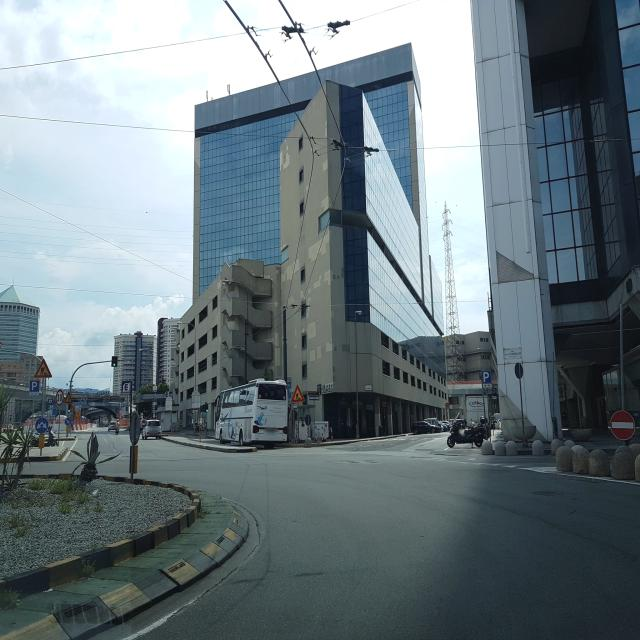bike: (115, 426, 120, 435)
car: (446, 418, 484, 447), (141, 418, 162, 439), (410, 420, 432, 435), (425, 418, 442, 432), (441, 420, 450, 430), (108, 420, 116, 430)
